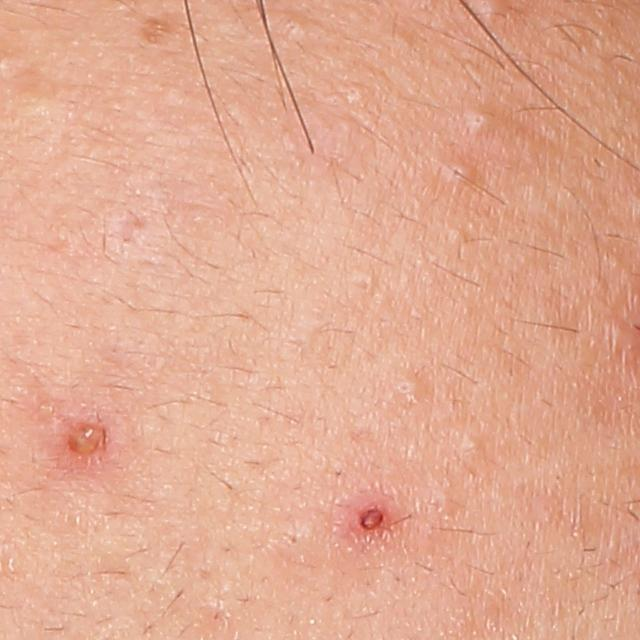comedo: (463, 436, 483, 456), (353, 276, 372, 295)
papule: (349, 494, 402, 536)
pustule: (60, 416, 106, 466)
